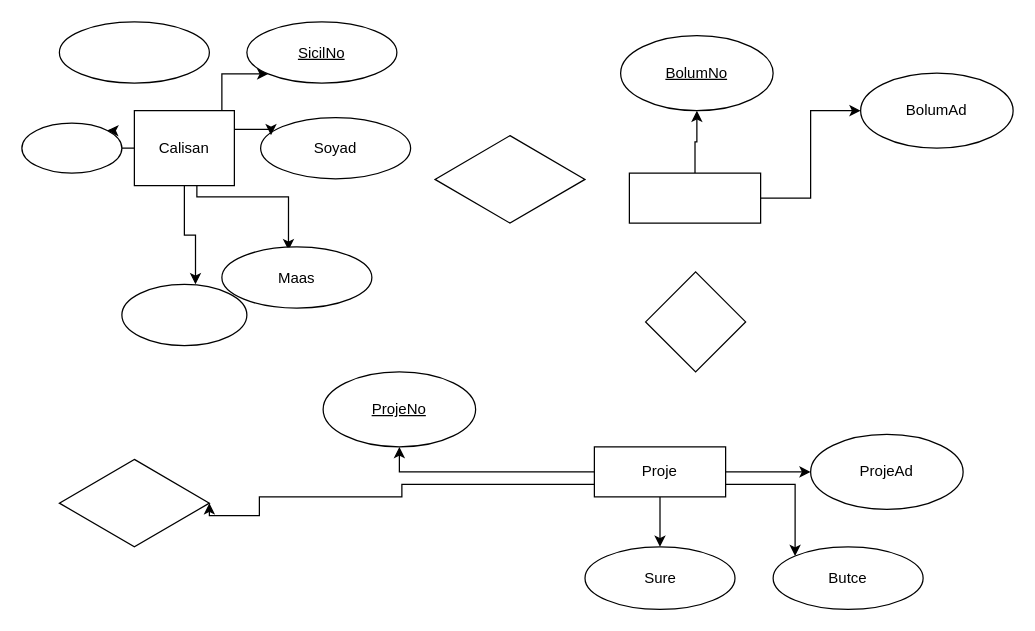
This 1035x631 diagram has some shape labels left out. Here are the shapes that lost their labels. From the top down, the box of each, then its label:
(58, 21, 209, 83): Ad
(21, 122, 122, 173): Cinsyet
(628, 172, 761, 223): Bolum
(121, 283, 247, 346): Dogum Tarih
(644, 271, 746, 372): Kontrol
